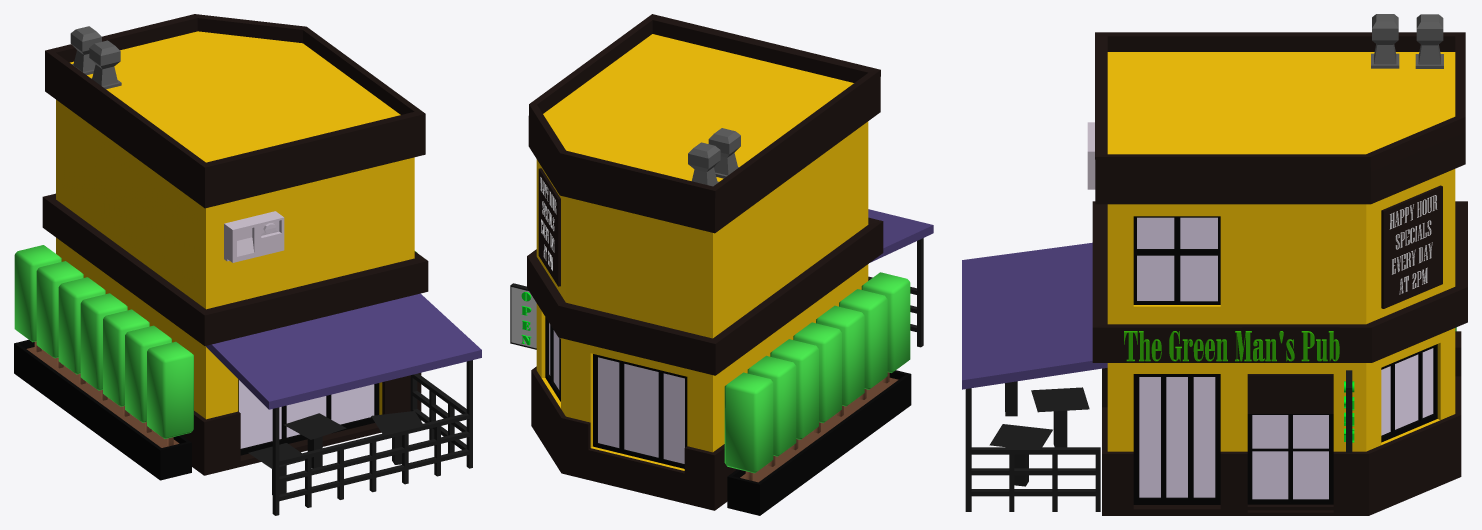
Rendered from open_bar.fbx.
3 renders of one model, left to right at view 1: azimuth 30°, elevation 25°; view 2: azimuth 150°, elevation 25°; view 3: azimuth 270°, elevation 25°, orthographic. The views are drawn at different scales.
Parts seen in each view (by area): view 1: Object; view 2: Object; view 3: Object.
Part boxes in pixels (box(x1,y1,x2,y2)): Object: box(14, 14, 481, 515); Object: box(510, 14, 933, 515); Object: box(962, 14, 1467, 515).
Bounding box in the file's own units: 1792 × 2027 × 2391.
